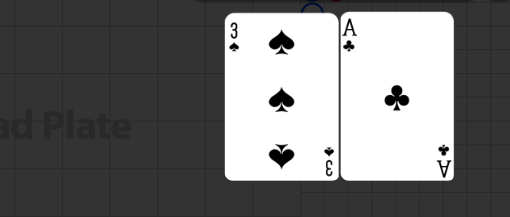3S: (228, 21, 241, 54)
AC: (434, 139, 451, 178)
